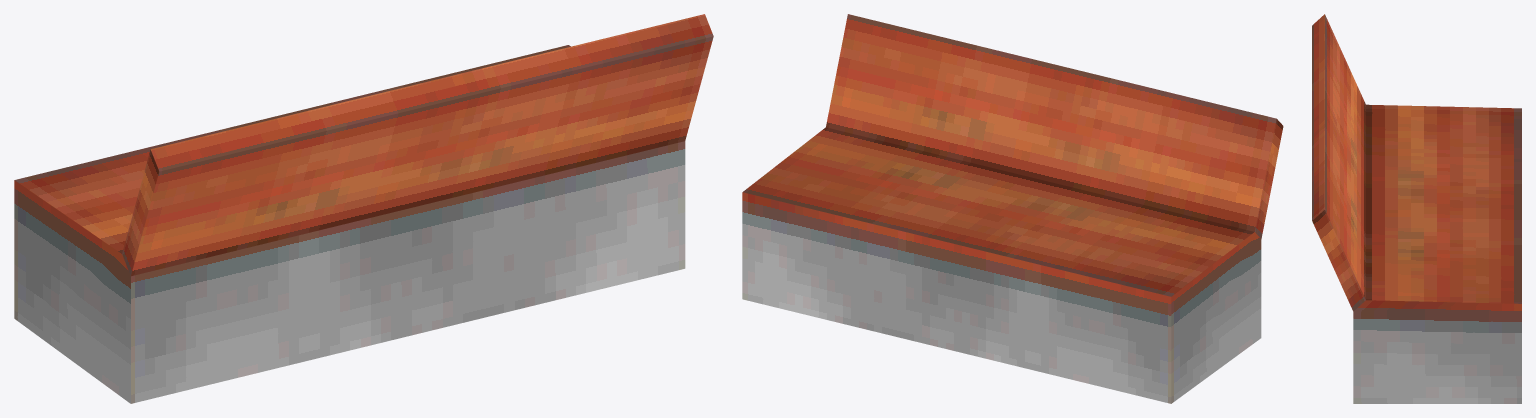
The model's file is bench07.glb.
3 renders of one model, left to right at view 1: azimuth 30°, elevation 25°; view 2: azimuth 150°, elevation 25°; view 3: azimuth 270°, elevation 25°, orthographic. The views are drawn at different scales.
Parts seen in each view (by area): view 1: bench07; view 2: bench07; view 3: bench07.
Boxes of the visible parts, left/top/right/bottom form: bench07: left=14, top=14, right=713, bottom=403; bench07: left=742, top=14, right=1283, bottom=403; bench07: left=1312, top=14, right=1521, bottom=403.
Size of the model in its own units: 243 by 113 by 110.
Materials: 1 (1 with a texture image).
